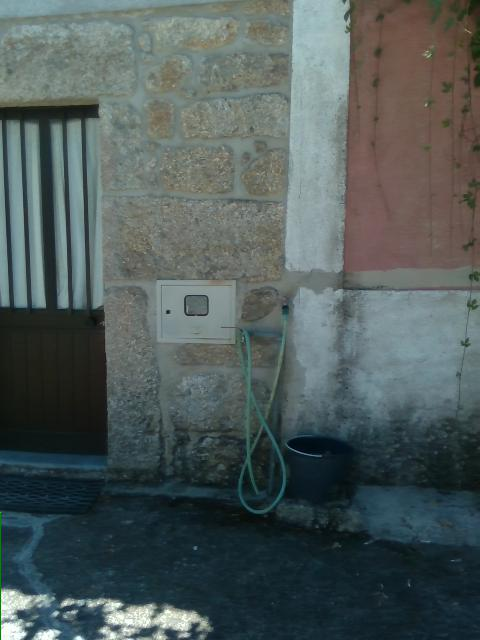door: (0, 96, 106, 469)
